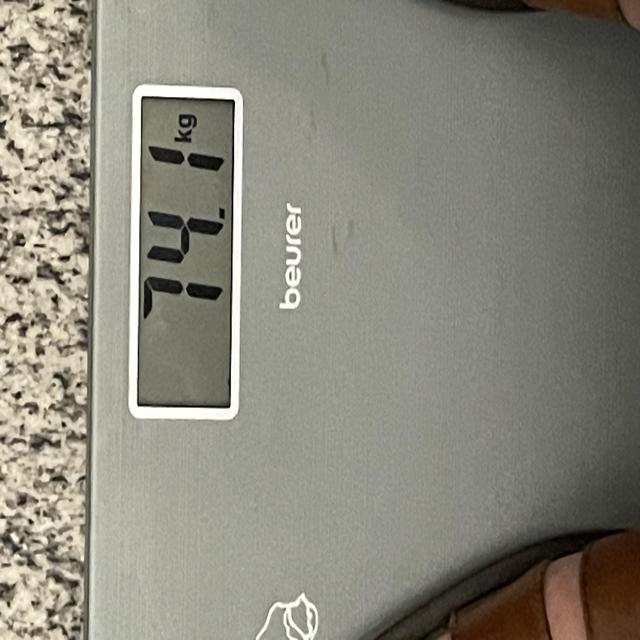ws: (78, 0, 640, 640)
